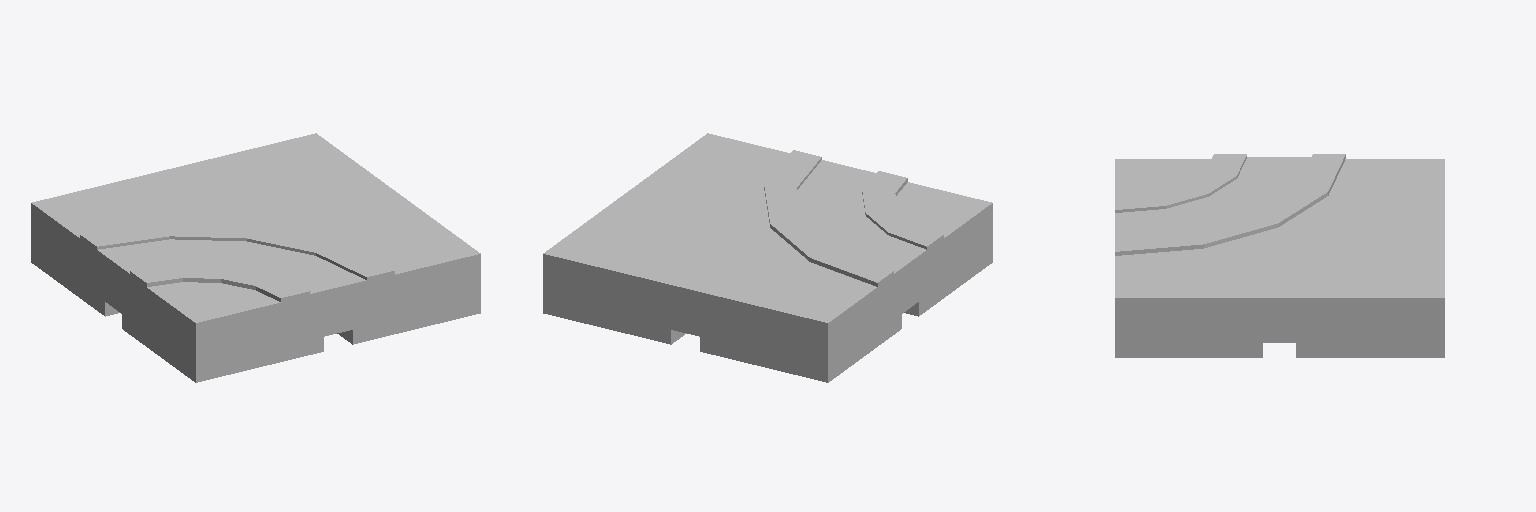
The model's file is puzzlePiece_oneBend_NE.obj.
3 renders of one model, left to right at view 1: azimuth 30°, elevation 25°; view 2: azimuth 150°, elevation 25°; view 3: azimuth 270°, elevation 25°, orthographic.
Visible parts, largest first — view 1: pCube1, pCylinder9, pCylinder8; view 2: pCube1, pCylinder9, pCylinder8; view 3: pCube1, pCylinder9, pCylinder8.
Boxes of the visible parts, <box> form: pCube1: <box>31,133,480,382</box>; pCylinder9: <box>80,223,394,305</box>; pCylinder8: <box>84,239,389,297</box>; pCube1: <box>543,133,992,382</box>; pCylinder9: <box>764,150,943,286</box>; pCylinder8: <box>798,160,926,283</box>; pCube1: <box>1115,159,1444,357</box>; pCylinder9: <box>1115,154,1345,255</box>; pCylinder8: <box>1115,157,1310,237</box>.
Bounding box in the file's own units: 0.5 × 0.107 × 0.5.